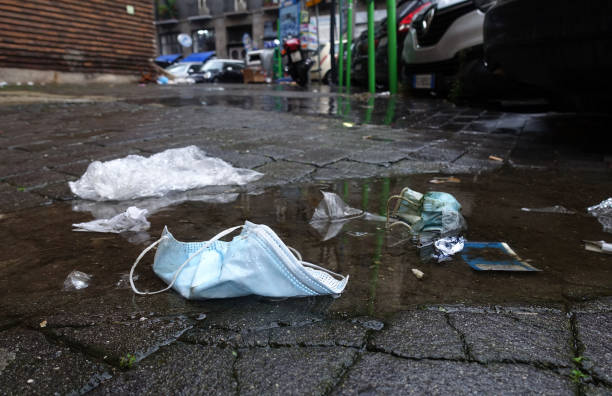General waste: (127, 224, 356, 320), (357, 170, 533, 280), (127, 54, 241, 94)
plastic: (58, 142, 272, 197), (58, 197, 158, 237), (311, 180, 374, 225), (567, 178, 612, 226), (60, 268, 102, 299)
